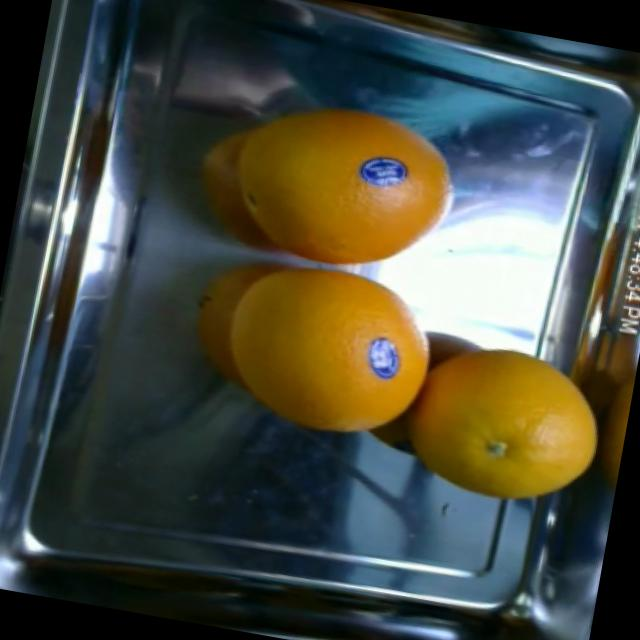Fruit: (348, 143, 420, 200), (356, 331, 414, 388)
